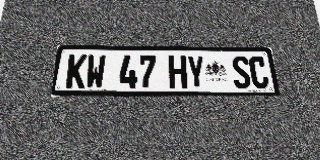4: (119, 55, 138, 89)
7: (138, 55, 156, 89)
C: (248, 56, 270, 89)
H: (169, 55, 187, 89)
K: (65, 54, 87, 89)
S: (231, 56, 252, 89)
W: (85, 55, 106, 89)
Y: (186, 56, 206, 89)
